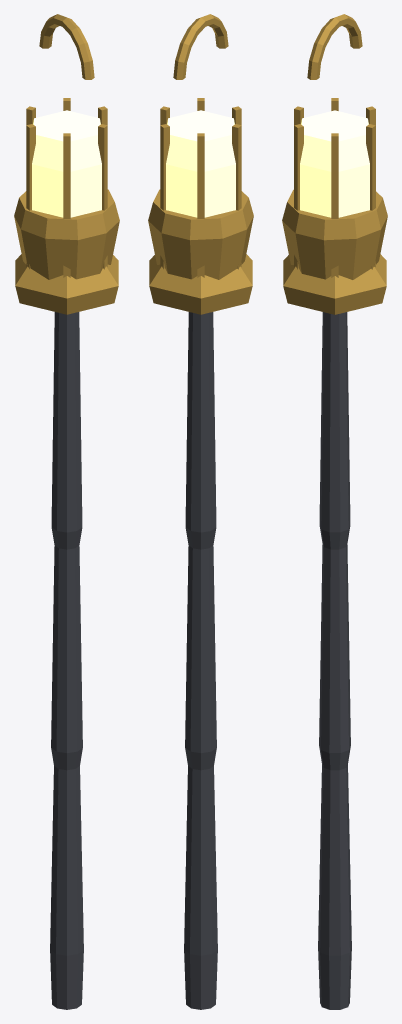
Rendered from staff_lamp.glb.
3 renders of one model, left to right at view 1: azimuth 30°, elevation 25°; view 2: azimuth 150°, elevation 25°; view 3: azimuth 330°, elevation 25°, orthographic.
Parts seen in each view (by area): view 1: Lamp_Shaft, Lamp_Glass, Lamp_Base, Lamp_Top, Lamp_Handle, Lamp_Rib4, Lamp_Rib5, Lamp_Rib3; view 2: Lamp_Shaft, Lamp_Glass, Lamp_Base, Lamp_Top, Lamp_Handle, Lamp_Rib2, Lamp_Rib1, Lamp_Rib3; view 3: Lamp_Shaft, Lamp_Glass, Lamp_Base, Lamp_Top, Lamp_Handle, Lamp_Rib5, Lamp_Rib4, Lamp_Rib0.
Part boxes in pixels (box(x1,y1,x2,y2)): Lamp_Shaft: box(50, 312, 83, 1009); Lamp_Glass: box(32, 110, 101, 217); Lamp_Base: box(14, 189, 119, 279); Lamp_Top: box(15, 254, 118, 314); Lamp_Handle: box(39, 14, 94, 79); Lamp_Rib4: box(63, 133, 70, 277); Lamp_Rib5: box(98, 124, 107, 269); Lamp_Rib3: box(26, 124, 35, 269); Lamp_Shaft: box(184, 312, 217, 1009); Lamp_Glass: box(166, 110, 235, 217); Lamp_Base: box(148, 189, 253, 279); Lamp_Top: box(149, 254, 252, 314); Lamp_Handle: box(173, 14, 228, 79); Lamp_Rib2: box(197, 133, 204, 277); Lamp_Rib1: box(160, 124, 169, 269); Lamp_Rib3: box(232, 124, 241, 269); Lamp_Shaft: box(318, 312, 351, 1009); Lamp_Glass: box(300, 110, 369, 217); Lamp_Base: box(282, 189, 387, 279); Lamp_Top: box(283, 254, 386, 314); Lamp_Handle: box(307, 14, 362, 79); Lamp_Rib5: box(331, 133, 338, 277); Lamp_Rib4: box(294, 124, 303, 269); Lamp_Rib0: box(366, 124, 375, 269).
Bounding box in the file's own units: 0.236 × 2.15 × 0.2044.
